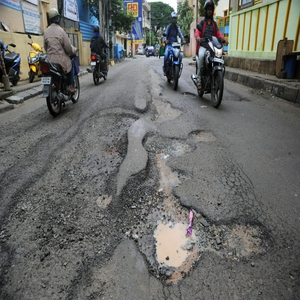pothole: (132, 200, 276, 289), (145, 132, 187, 191)
